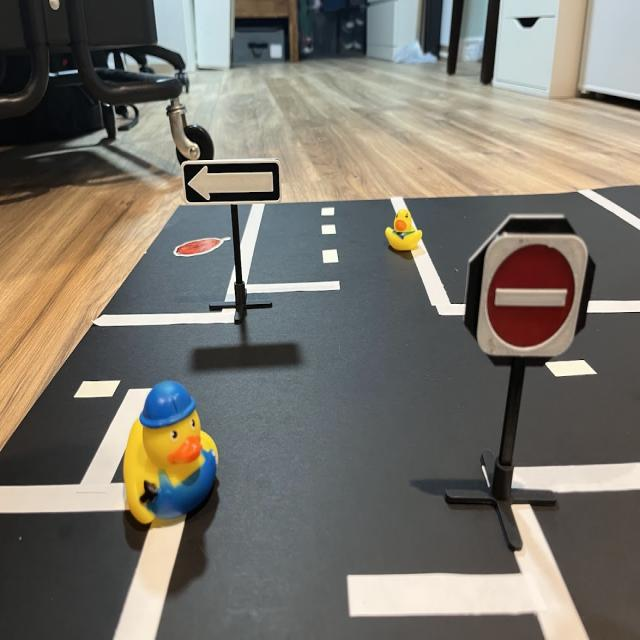duck_regular: (383, 206, 426, 256)
duck_specialty: (120, 383, 221, 535)
sign_noentry: (475, 236, 595, 360)
sign_oneway_left: (185, 161, 280, 206)
